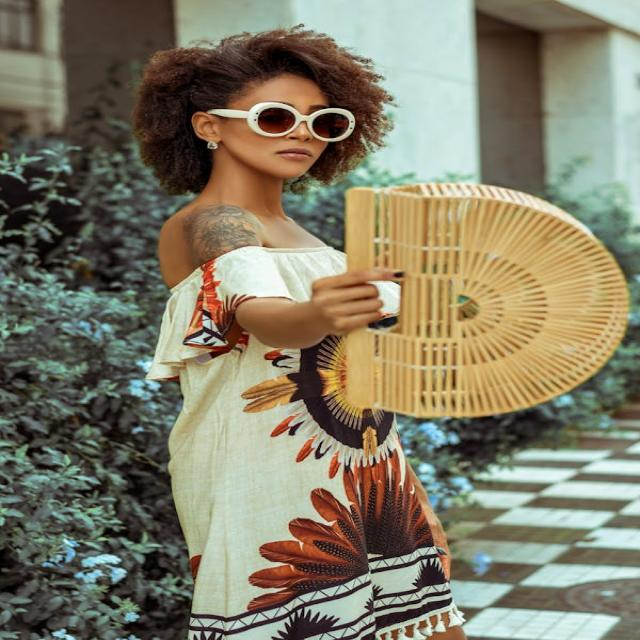Real human 2: (124, 17, 519, 640)
